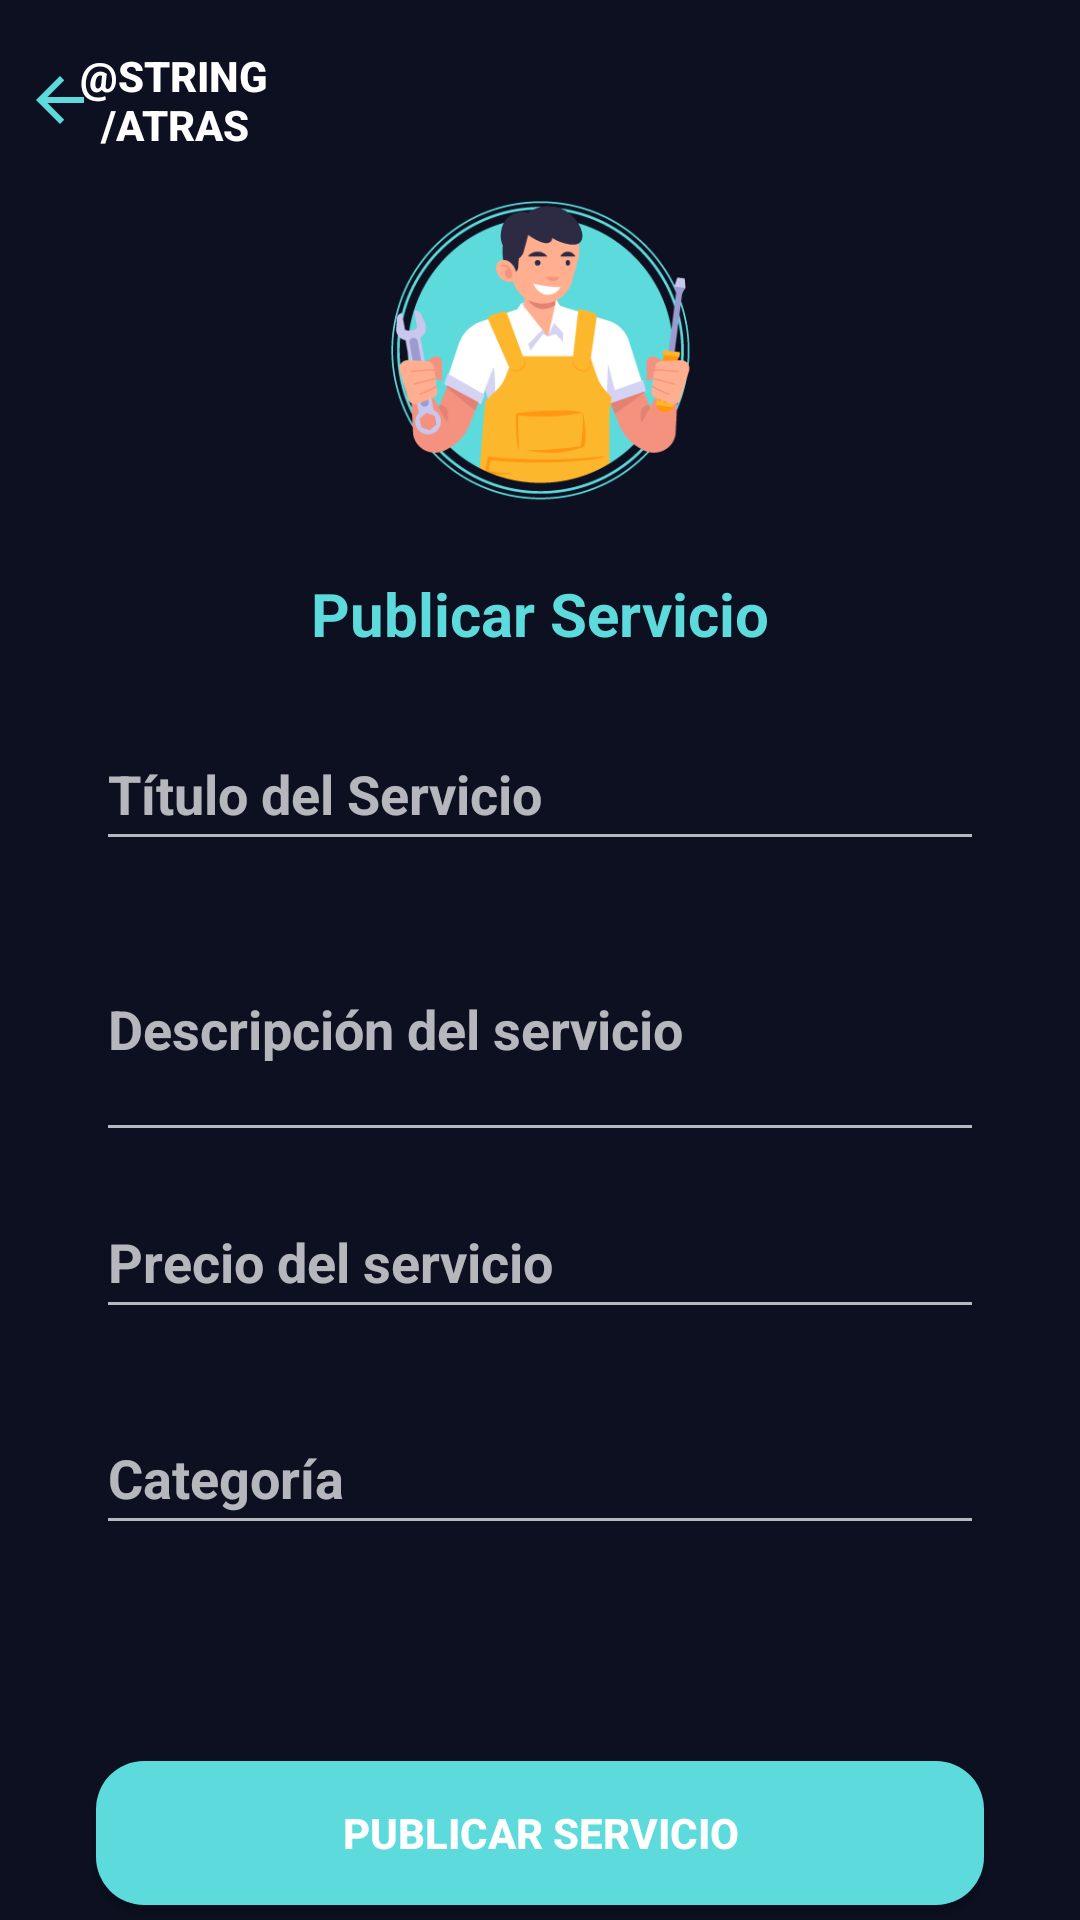

Locate icon controls on the screen. Image size 1080*1920, boxes as [x1=x1, y1=y1, x2=x2, y2=y2].
trabajador: [x1=391, y1=201, x2=690, y2=500]
